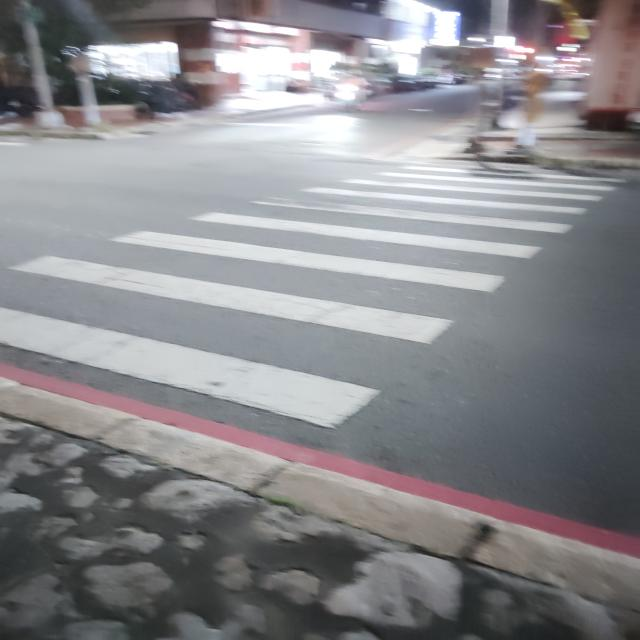zebra crossing: (0, 156, 618, 433)
